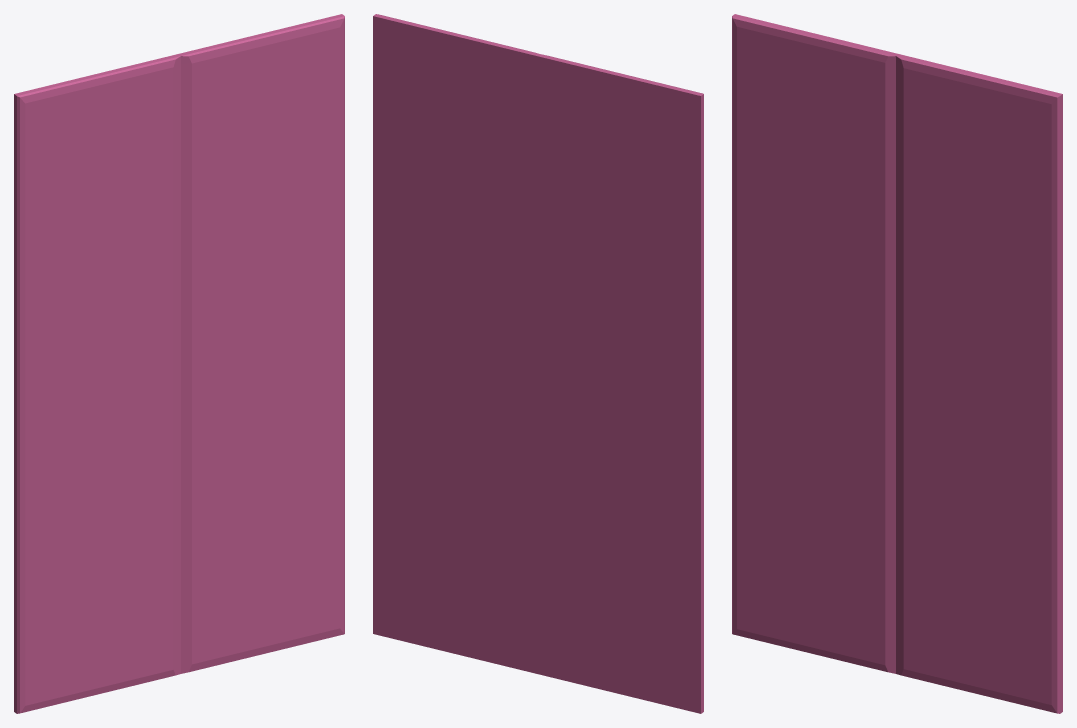
Rendered from WallPanel_Model_v04 (3).fbx.
3 views of the same model, side by side, from view 1: azimuth 30°, elevation 25°; view 2: azimuth 150°, elevation 25°; view 3: azimuth 330°, elevation 25° (orthographic).
Parts seen in each view (by area): view 1: pPlane16; view 2: pPlane16; view 3: pPlane16.
Part boxes in pixels (left/top/right/bottom): pPlane16: left=14, top=14, right=344, bottom=713; pPlane16: left=373, top=14, right=703, bottom=713; pPlane16: left=732, top=14, right=1062, bottom=713.
Size of the model in its own units: 200 by 360 by 4.86.
1 material, 1 textured.
